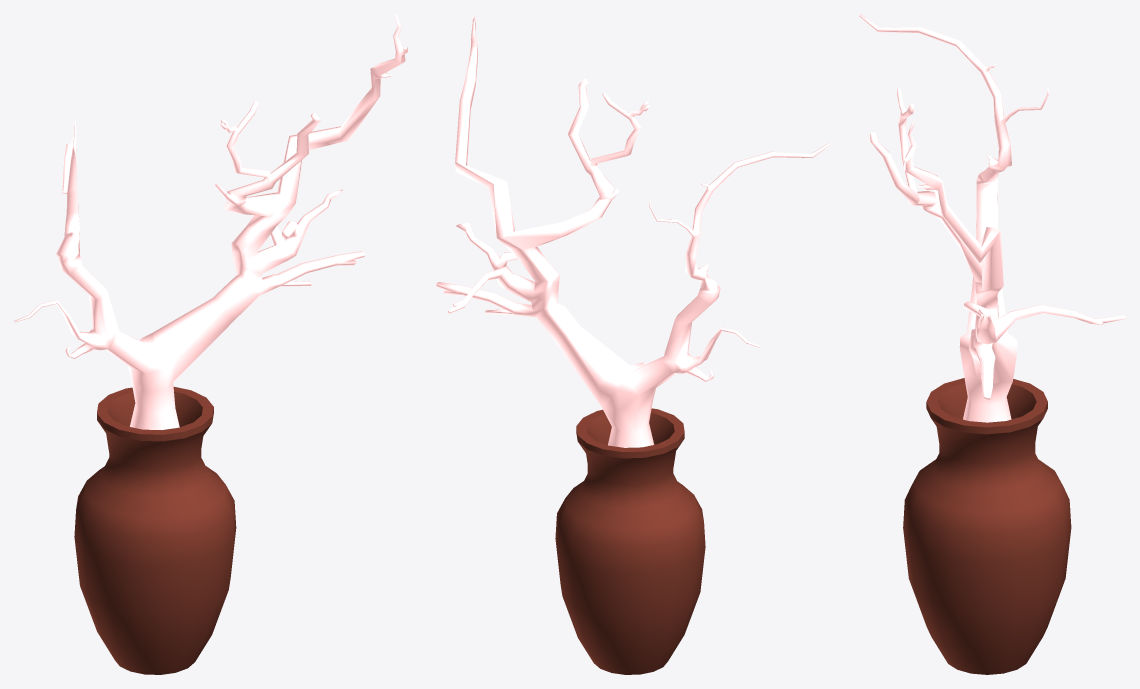
The model's file is decoration_NEW.fbx.
3 views of the same model, side by side, from view 1: azimuth 30°, elevation 25°; view 2: azimuth 150°, elevation 25°; view 3: azimuth 270°, elevation 25° (orthographic). The views are drawn at different scales.
Visible parts, largest first — view 1: Cylinder.002, Cube.021; view 2: Cylinder.002, Cube.021; view 3: Cylinder.002, Cube.021.
Part boxes in pixels (<box>): Cylinder.002: <box>74,386,236,674</box>; Cube.021: <box>14,14,407,429</box>; Cylinder.002: <box>555,408,705,674</box>; Cube.021: <box>436,14,830,447</box>; Cylinder.002: <box>903,378,1071,674</box>; Cube.021: <box>859,14,1125,422</box>.
Bounding box in the file's own units: 71.52 × 115 × 43.7.
